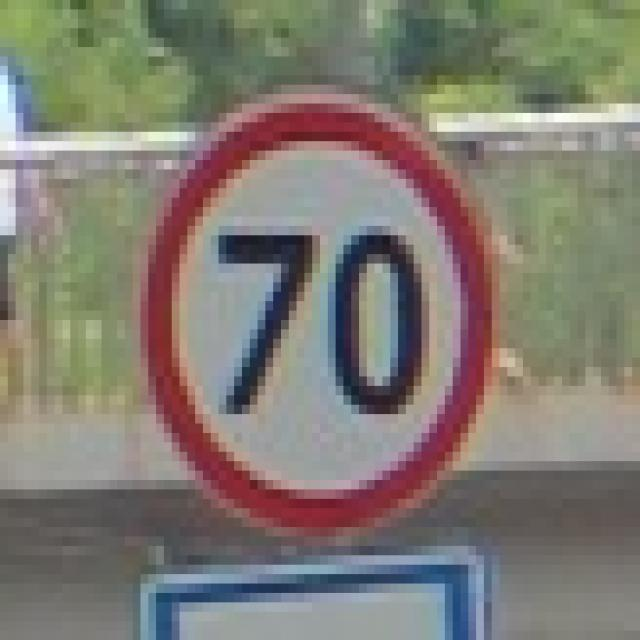Speed Limit -70-: (212, 225, 428, 426)
